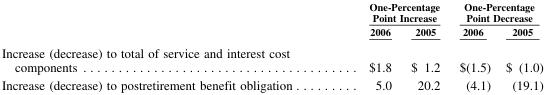table: (0, 0, 542, 91)
table column: (0, 0, 329, 91), (329, 0, 400, 91), (400, 0, 449, 91), (449, 0, 497, 91), (497, 0, 542, 91)
table column header: (0, 0, 542, 41)
table row: (0, 41, 542, 75), (0, 0, 542, 24), (0, 24, 542, 41), (0, 75, 542, 91)
table spanning cell: (329, 0, 449, 24), (449, 0, 542, 24)
